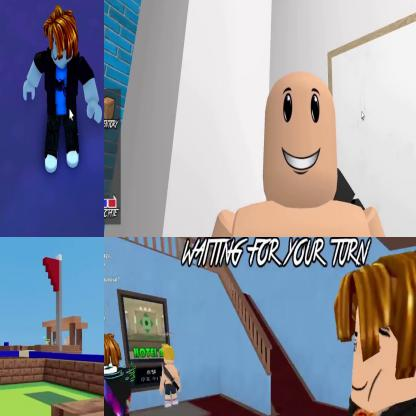Roblox-Avatar: (177, 71, 416, 237), (310, 244, 416, 416), (24, 5, 103, 174), (105, 331, 138, 416)
